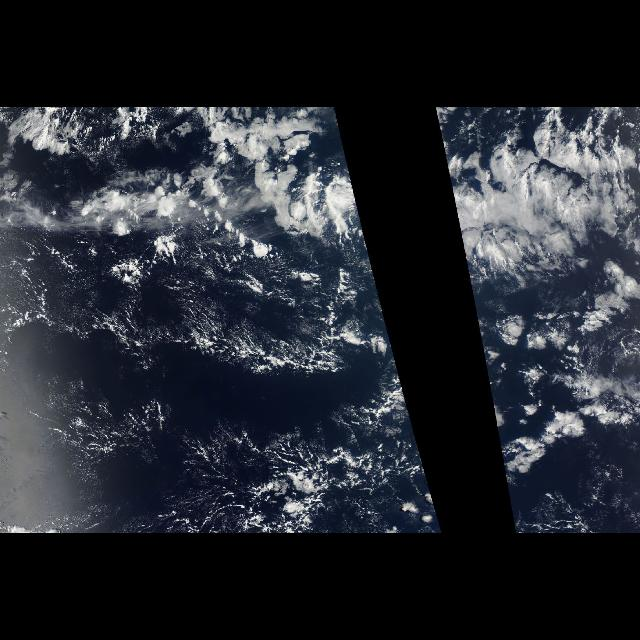Fish: (141, 301, 355, 391)
Flower: (74, 141, 370, 251), (476, 309, 626, 489)
Gravel: (17, 222, 371, 386), (170, 428, 434, 504)
